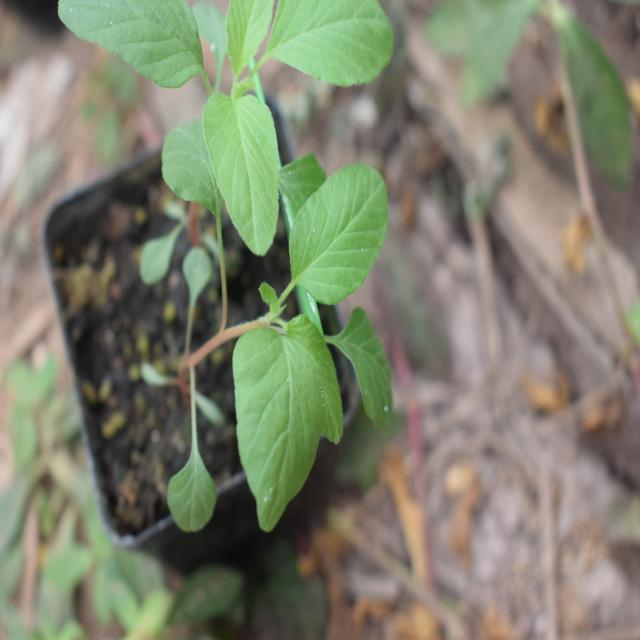pigweed: (146, 69, 397, 502)
